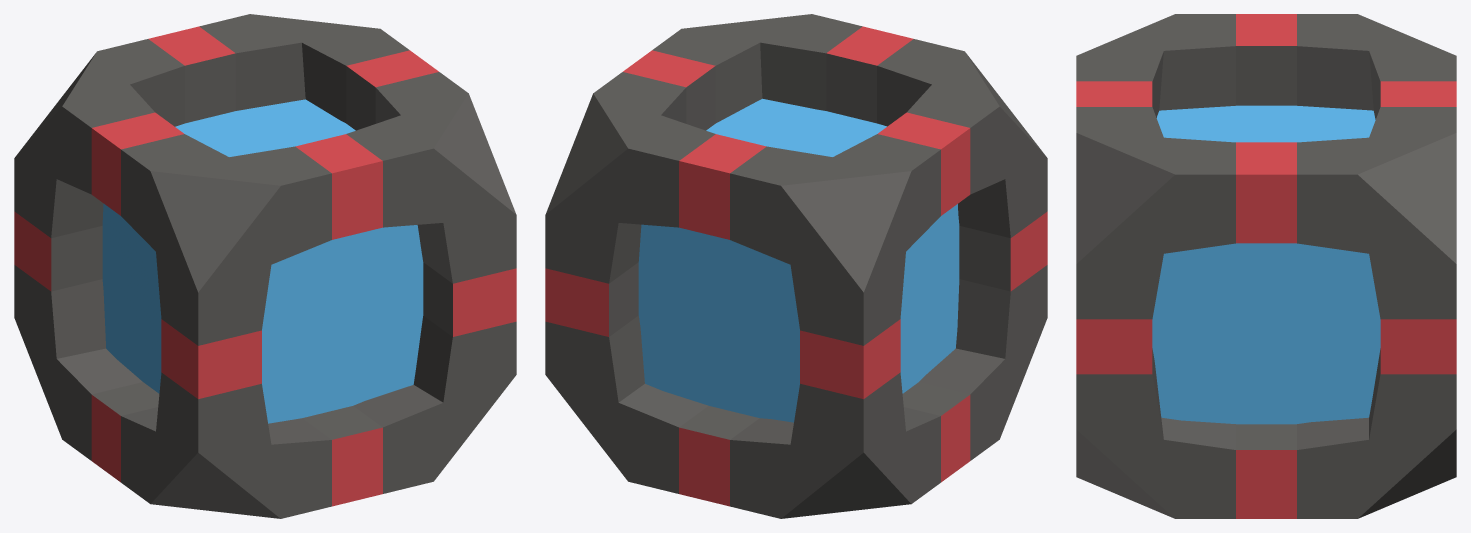
Rendered from box_future.fbx.
3 views of the same model, side by side, from view 1: azimuth 30°, elevation 25°; view 2: azimuth 150°, elevation 25°; view 3: azimuth 270°, elevation 25° (orthographic). The views are drawn at different scales.
Visible parts, largest first — view 1: Cube.001; view 2: Cube.001; view 3: Cube.001.
Boxes of the visible parts, box(x1,y1,x2,y2) form: Cube.001: box(14, 14, 516, 518); Cube.001: box(545, 14, 1047, 518); Cube.001: box(1076, 14, 1456, 518).
Size of the model in its own units: 250 by 250 by 250.
